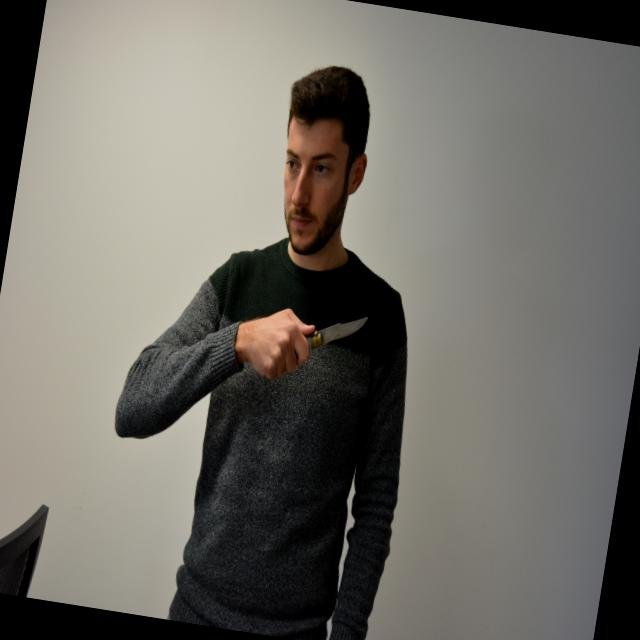knife: (287, 298, 373, 374)
